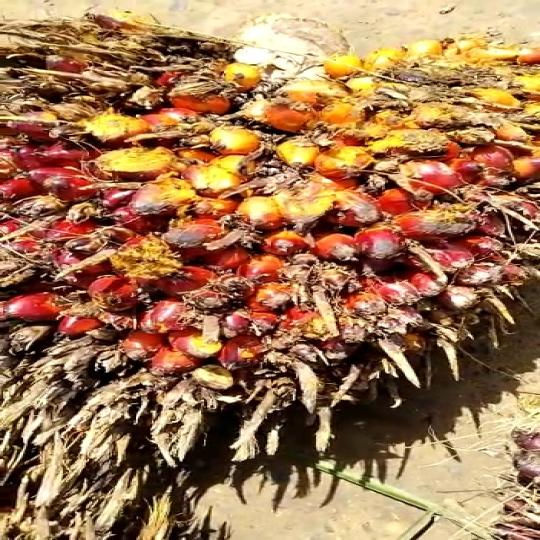masak: (0, 0, 540, 469)
